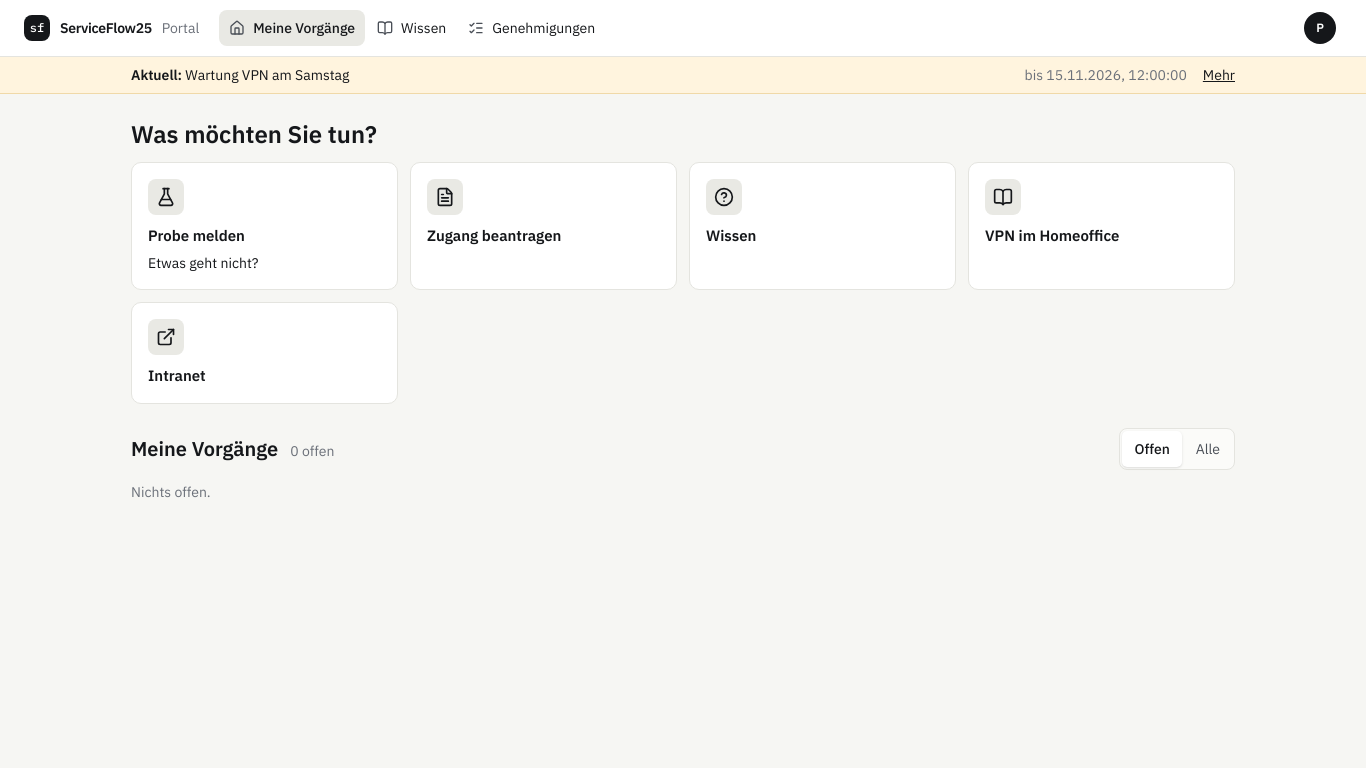
Test: Start page of the portal › shows a notice written by hand with its title and until when
Expected: the text "Wartung VPN am Samstag" is shown, [185,66,349,84]
Expected: the element "Aktuell" shows "bis 15.11.2026", [1025,66,1187,84]
What coordinates should you click on to do the following:
click the button "Mehr"
I would click on:
 (1219, 75)
Its box is [1203,65,1235,85].
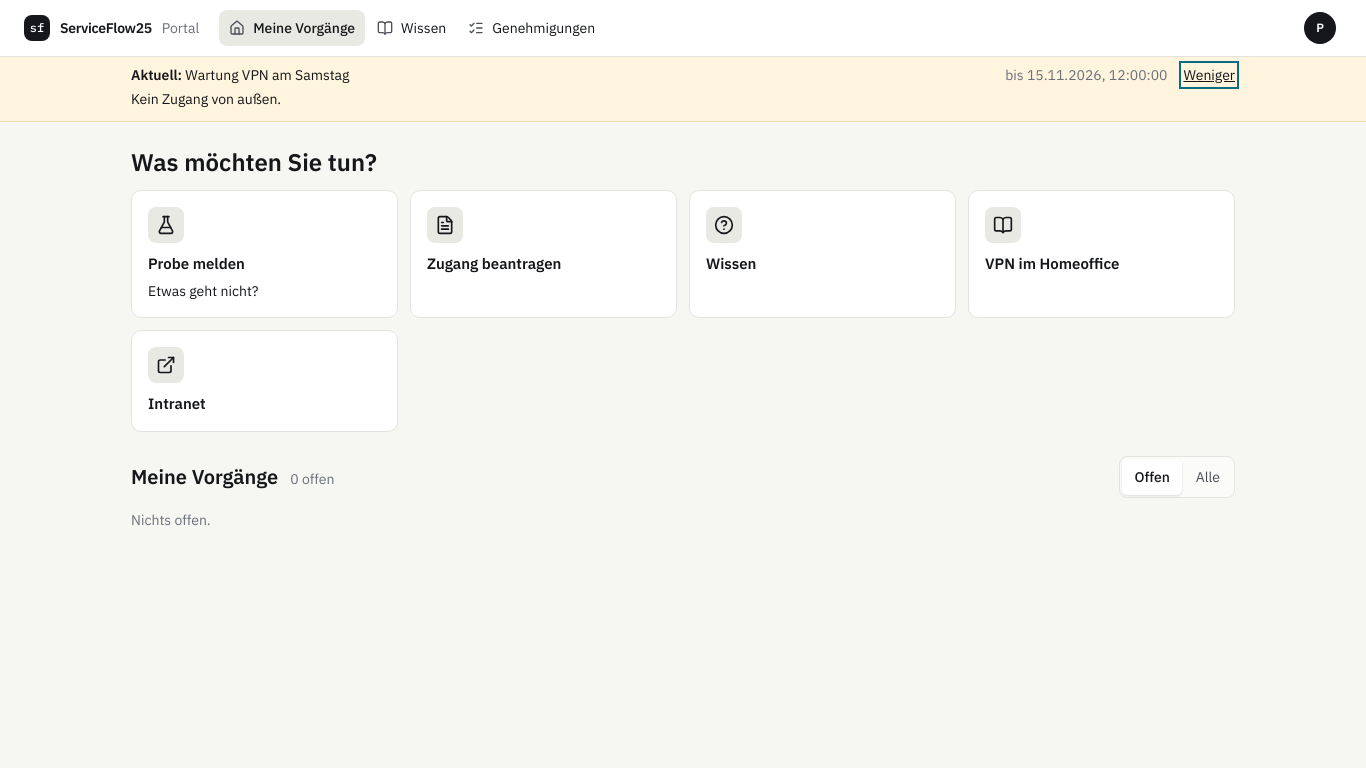
Now the text "Kein Zugang von außen." is shown, box [131,90,281,108]
